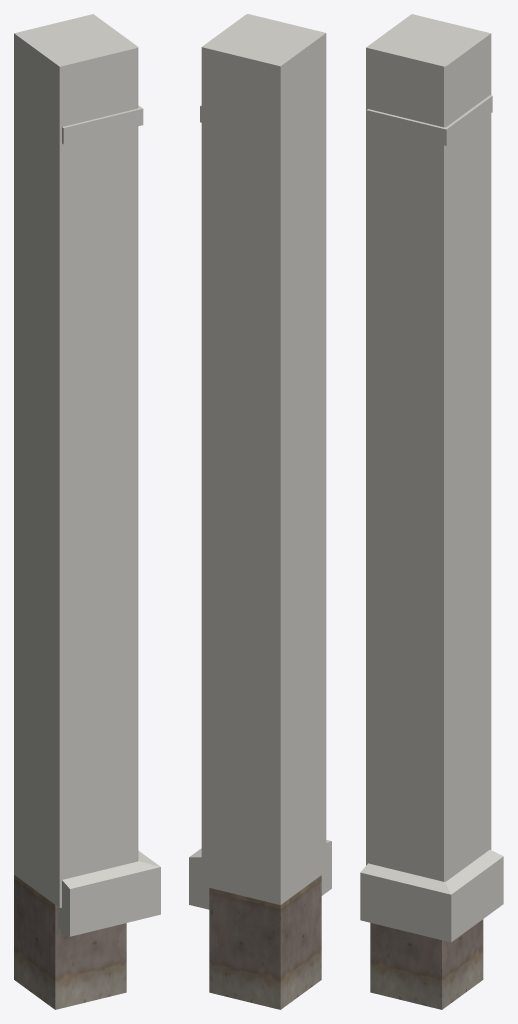
Rendered from corner_siding.glb.
The picture shows the model from 3 angles, left to right: view 1: azimuth 30°, elevation 25°; view 2: azimuth 150°, elevation 25°; view 3: azimuth 330°, elevation 25°; orthographic projection.
Visible parts, largest first — view 1: corner_siding_trim, corner_siding_stone; view 2: corner_siding_trim, corner_siding_stone; view 3: corner_siding_trim, corner_siding_stone.
Part boxes in pixels (bbox=[...]): corner_siding_trim: bbox=[14, 14, 160, 936]; corner_siding_stone: bbox=[14, 875, 126, 1009]; corner_siding_trim: bbox=[189, 14, 331, 909]; corner_siding_stone: bbox=[209, 875, 321, 1009]; corner_siding_trim: bbox=[360, 14, 503, 942]; corner_siding_stone: bbox=[370, 919, 483, 1009].
Size of the model in its own units: 0.417 by 4.05 by 0.417.
Materials: 2 (1 with a texture image).
